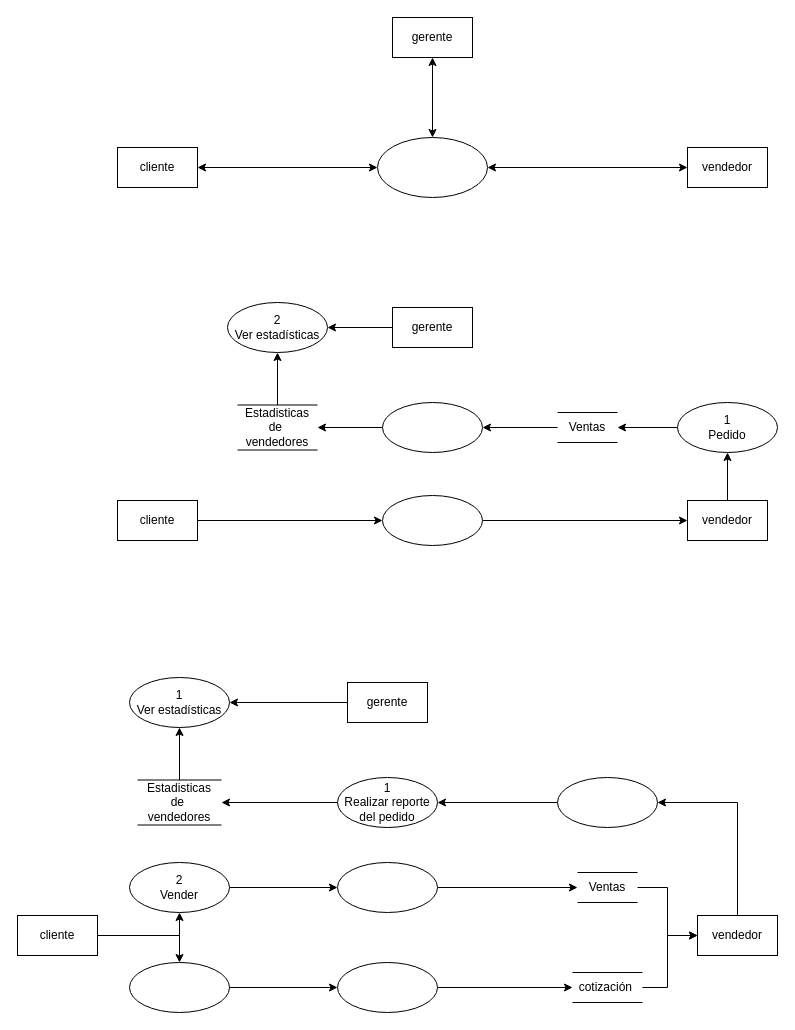
Image size: 795x1030. Some labels were removed from this diagram. The shapes that lost their labels are listed below. From the top down, each one's centre as x and y in pixels, then its label:
point (432, 167): 0 sist venta/compra autos
point (432, 427): 1 Realiza reporte del pedido
point (432, 520): 1 comprar/vender
point (607, 802): 2 confirmar pedido
point (387, 887): 2 Selección de auto
point (179, 987): 2 Comprar
point (387, 987): 2 Comprobación
